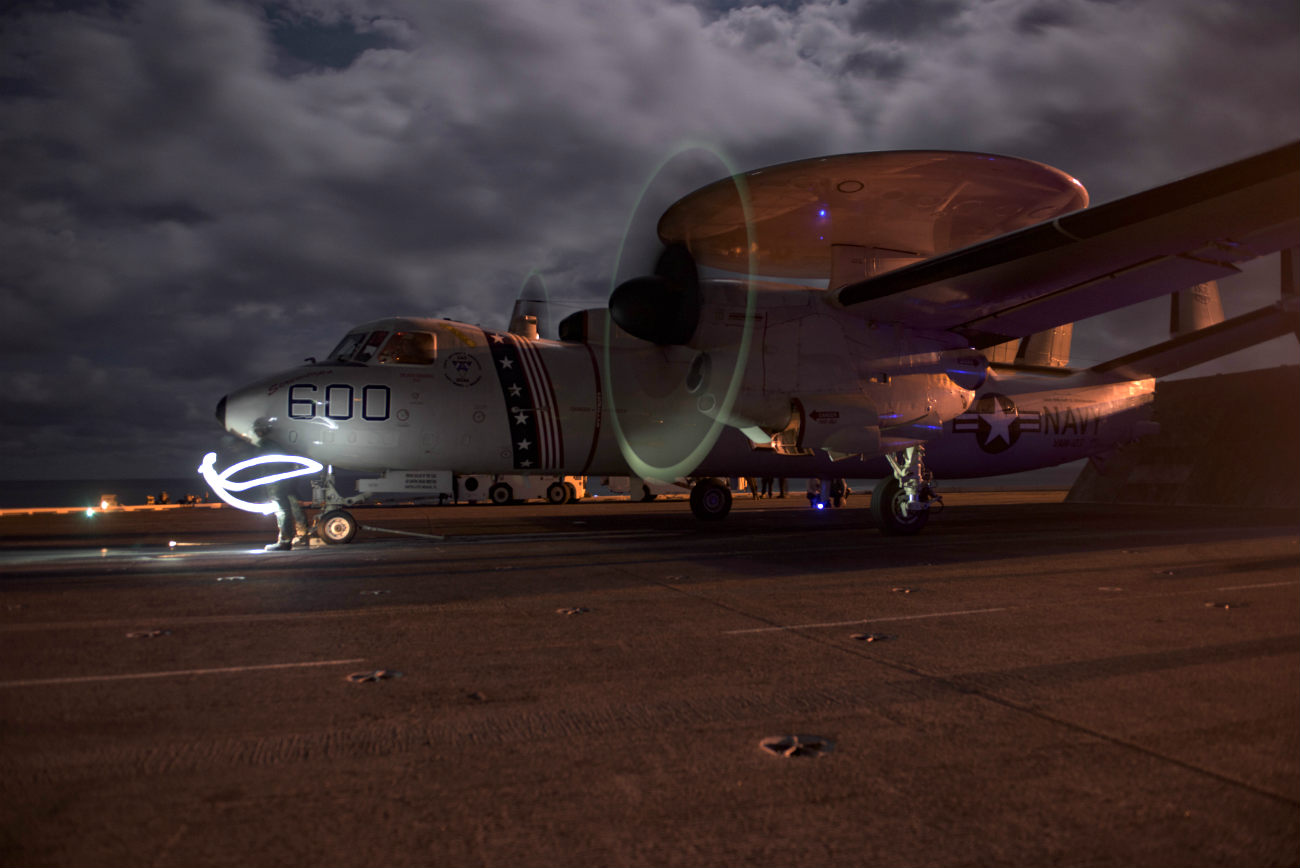E2: (215, 140, 1300, 545)
